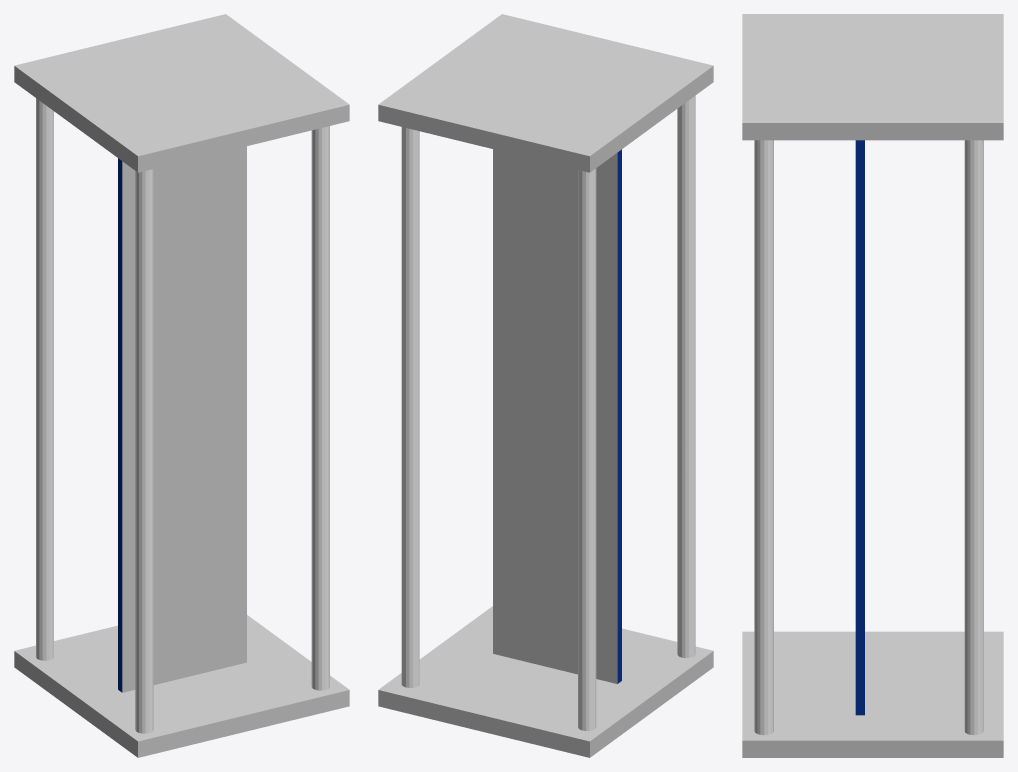
Rendered from SubwayInfoStation.fbx.
The picture shows the model from 3 angles, left to right: view 1: azimuth 30°, elevation 25°; view 2: azimuth 150°, elevation 25°; view 3: azimuth 270°, elevation 25°; orthographic projection. The views are drawn at different scales.
Parts seen in each view (by area): view 1: Object_4, Object_2, Object_3; view 2: Object_4, Object_2, Object_3; view 3: Object_4, Object_2, Object_3.
Part boxes in pixels (bbox=[...]): Object_4: bbox=[14, 14, 349, 757]; Object_2: bbox=[36, 98, 329, 733]; Object_3: bbox=[118, 158, 122, 692]; Object_4: bbox=[378, 14, 713, 757]; Object_2: bbox=[401, 95, 695, 730]; Object_3: bbox=[617, 149, 621, 683]; Object_4: bbox=[742, 14, 1003, 757]; Object_2: bbox=[754, 140, 983, 735]; Object_3: bbox=[855, 140, 864, 715].
Size of the model in its own units: 94.79 by 257 by 96.1.
